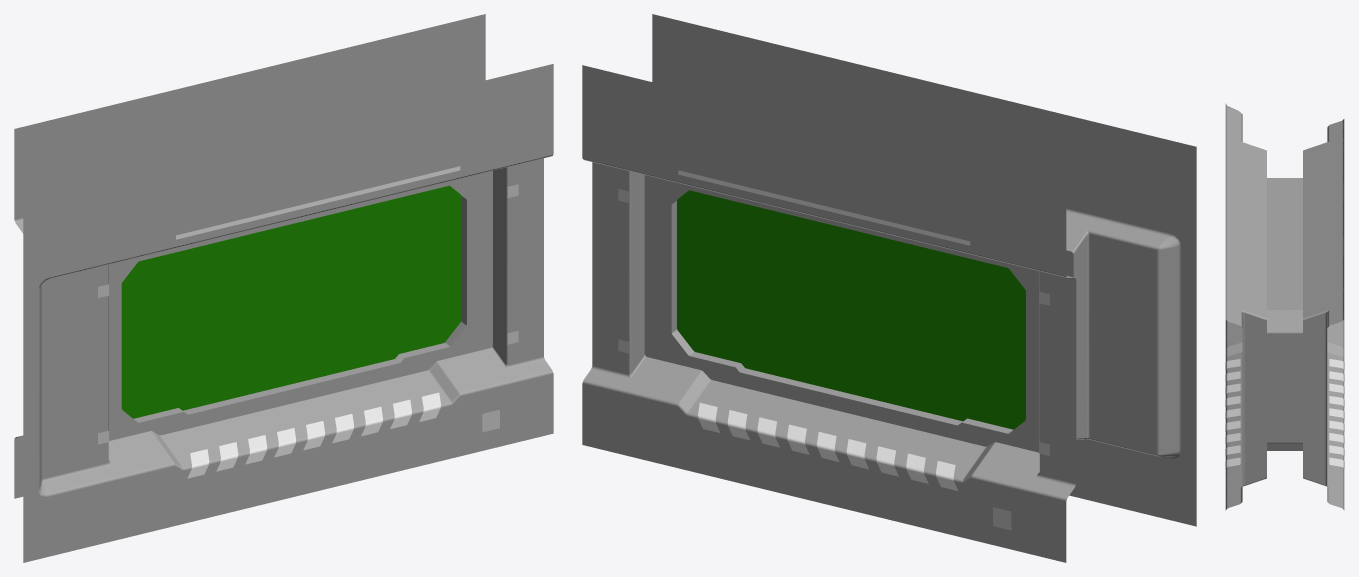
Rendered from Wall_73_a_Window_Cap_0.25x3.fbx.
3 views of the same model, side by side, from view 1: azimuth 30°, elevation 25°; view 2: azimuth 150°, elevation 25°; view 3: azimuth 270°, elevation 25° (orthographic). The views are drawn at different scales.
Visible parts, largest first — view 1: Wall_73_Window_4x3, Wall_73_Window_4x3.001; view 2: Wall_73_Window_4x3, Wall_73_Window_4x3.001; view 3: Wall_73_Window_4x3, Wall_73_Window_4x3.001.
Boxes of the visible parts, <box> form: Wall_73_Window_4x3: <box>14,14,553,548</box>; Wall_73_Window_4x3.001: <box>23,179,82,562</box>; Wall_73_Window_4x3: <box>582,14,1135,562</box>; Wall_73_Window_4x3.001: <box>1126,132,1196,526</box>; Wall_73_Window_4x3: <box>1225,119,1344,510</box>; Wall_73_Window_4x3.001: <box>1225,103,1242,126</box>.
Size of the model in its own units: 4.5 by 3 by 1.
